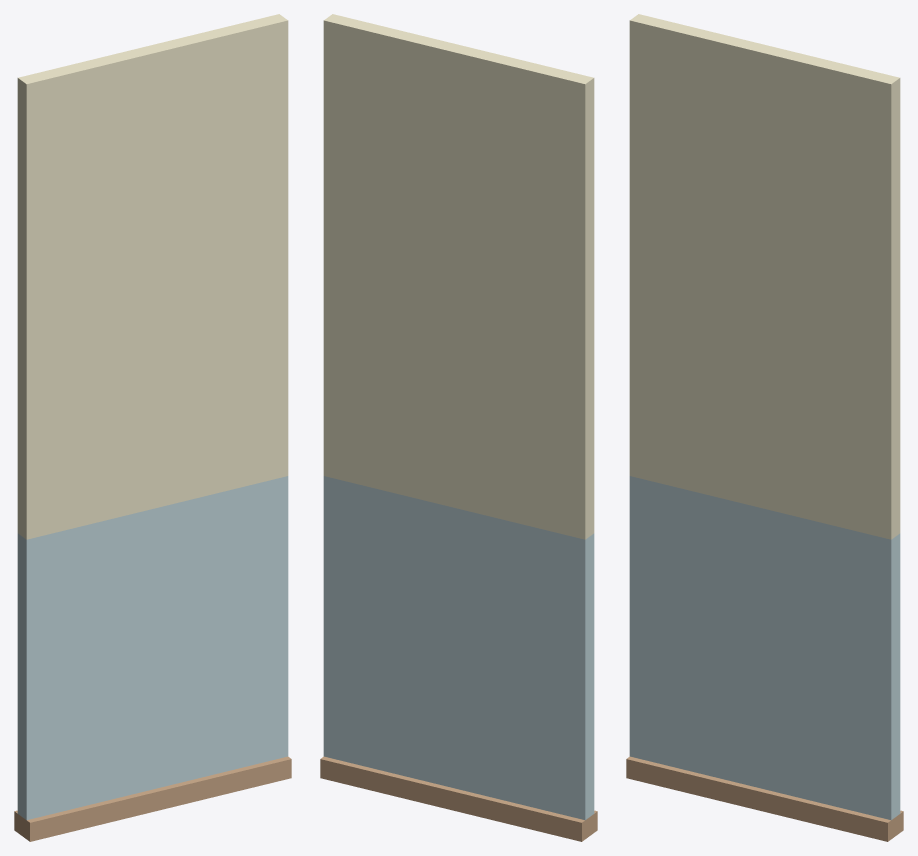
Rendered from wall.fbx.
3 renders of one model, left to right at view 1: azimuth 30°, elevation 25°; view 2: azimuth 150°, elevation 25°; view 3: azimuth 330°, elevation 25°, orthographic.
Visible parts, largest first — view 1: Cube_4; view 2: Cube_4; view 3: Cube_4.
Part boxes in pixels (x1=…): Cube_4: x1=14, y1=14, x2=291, y2=841; Cube_4: x1=320, y1=14, x2=597, y2=841; Cube_4: x1=626, y1=14, x2=903, y2=841.
Size of the model in its own units: 32.36 by 89.3 by 3.39.
